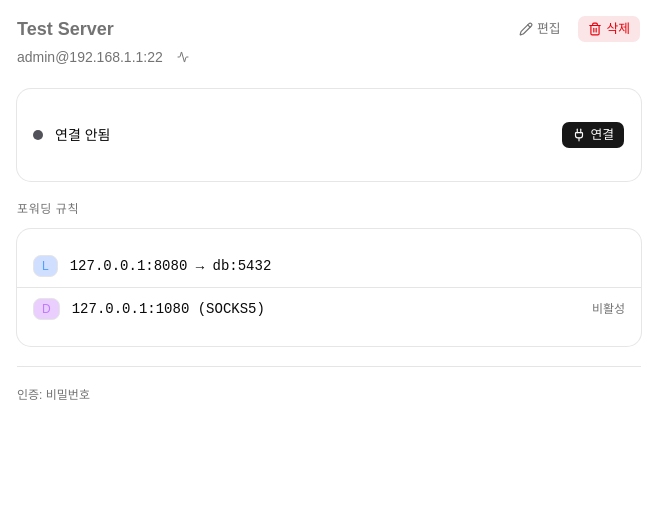
ConnectionStatusView › displays error message on connection failure
This screenshot has width=659, height=513.
Click the button "연결": (593, 135) [562,121,625,149]
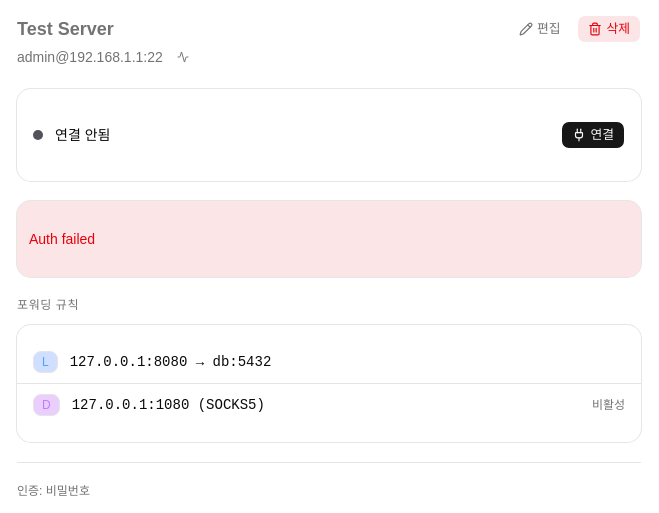
Now the text "Auth failed" is shown, box [29,231,95,247]
